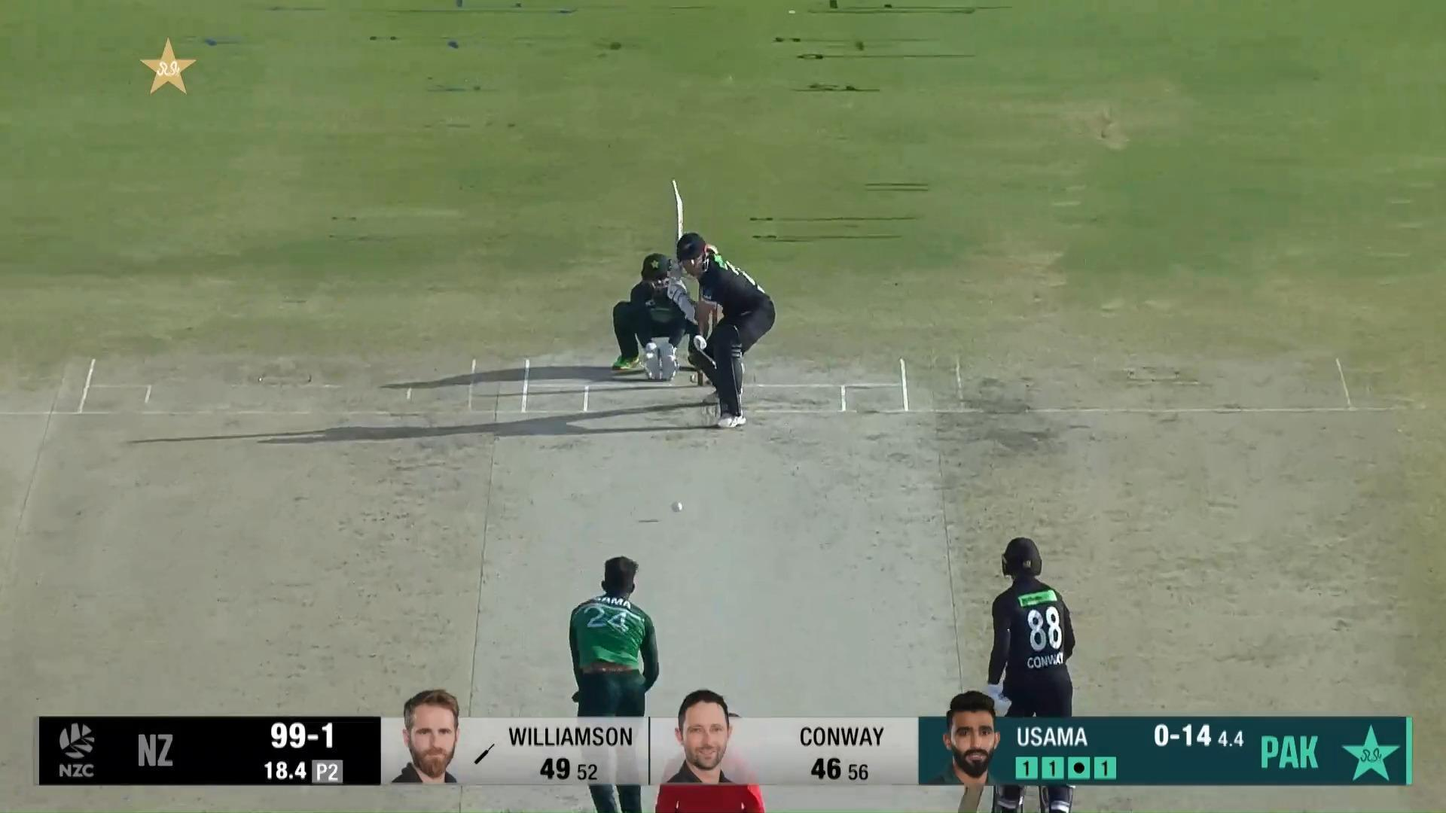BM 1: (666, 178, 776, 430)
BO: (568, 555, 660, 813)
